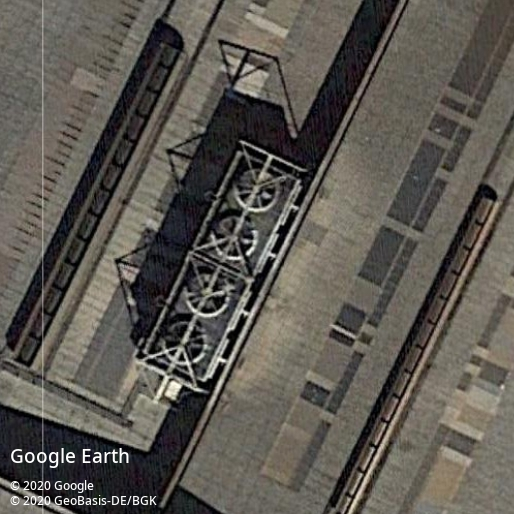Vent: (213, 216, 257, 260), (185, 274, 230, 317), (235, 169, 279, 212), (162, 322, 206, 365)
